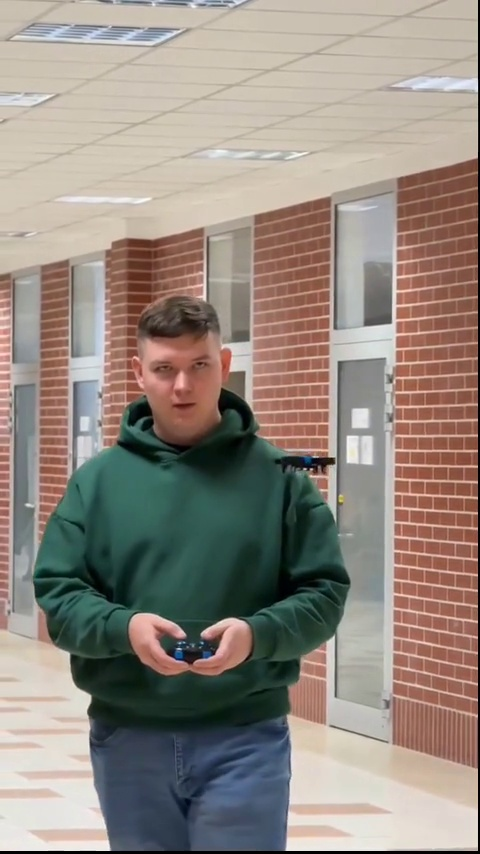drone: (271, 450, 338, 480)
no vest: (48, 292, 354, 829)
